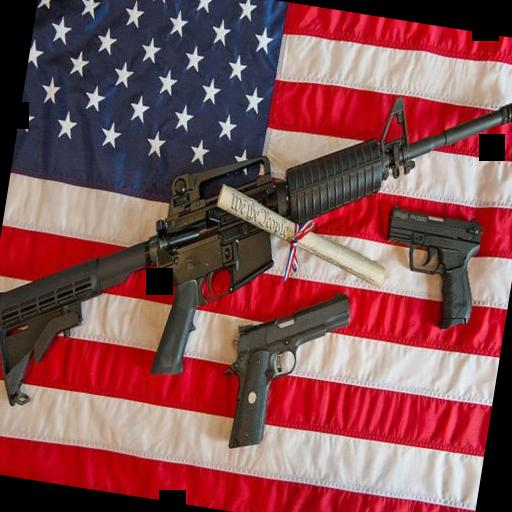Handgun: (211, 272, 354, 464), (372, 196, 489, 336)
